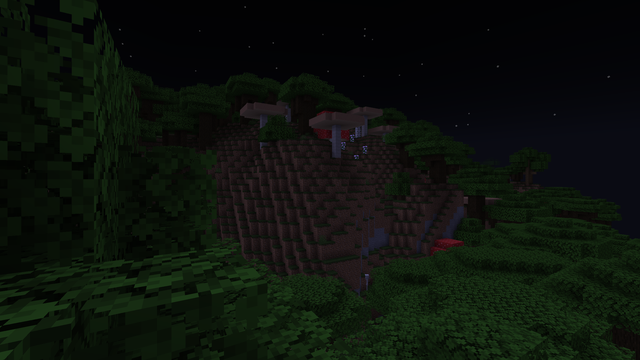squelettes: (363, 273, 369, 290)
